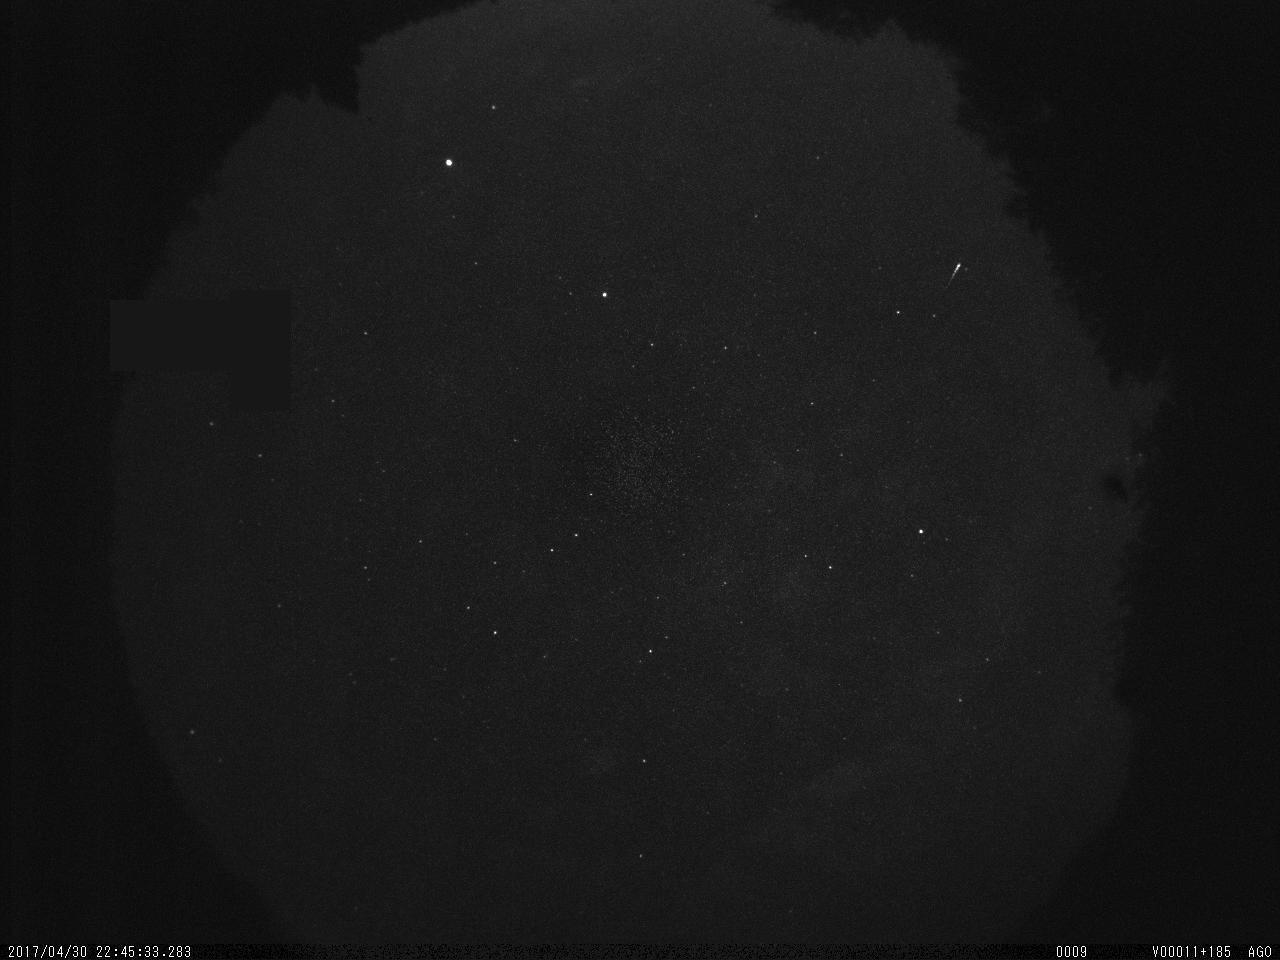meteor: (942, 257, 969, 290)
